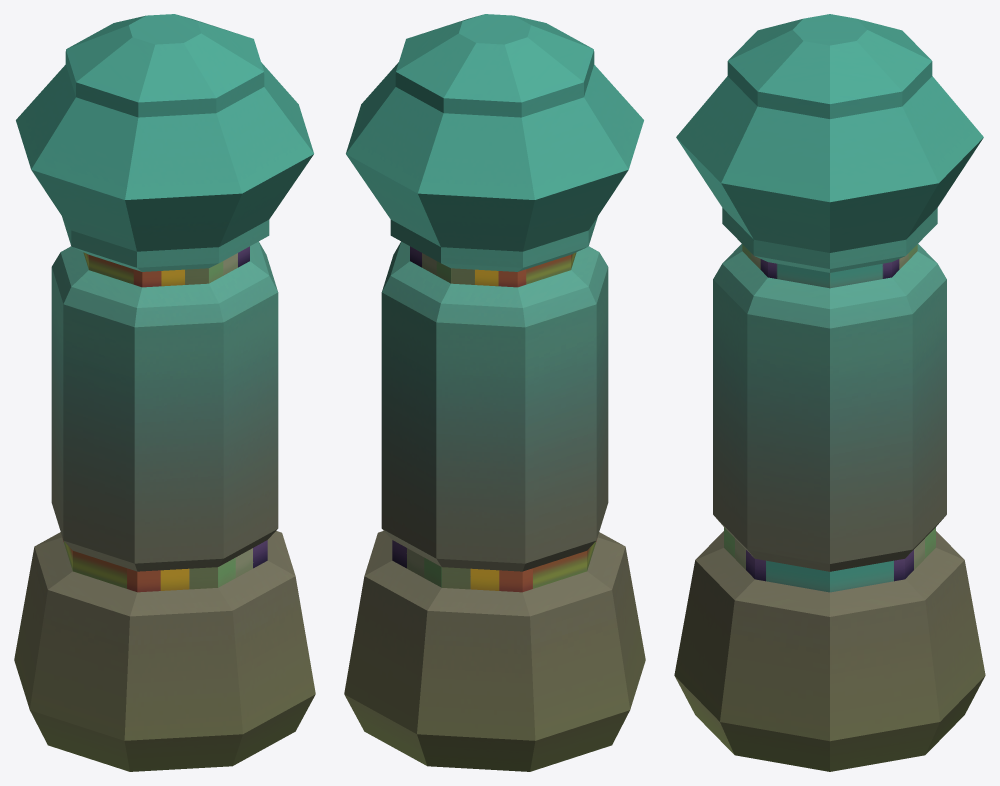
The model's file is depth_tower.glb.
The picture shows the model from 3 angles, left to right: view 1: azimuth 30°, elevation 25°; view 2: azimuth 150°, elevation 25°; view 3: azimuth 270°, elevation 25°; orthographic projection.
Parts seen in each view (by area): view 1: Depth_structure; view 2: Depth_structure; view 3: Depth_structure.
Boxes of the visible parts, x1,y1,x2,y2 form: Depth_structure: (14, 14, 315, 771); Depth_structure: (344, 14, 645, 771); Depth_structure: (674, 14, 985, 771).
Size of the model in its own units: 3.29 by 8 by 3.29.
1 material, 1 textured.
